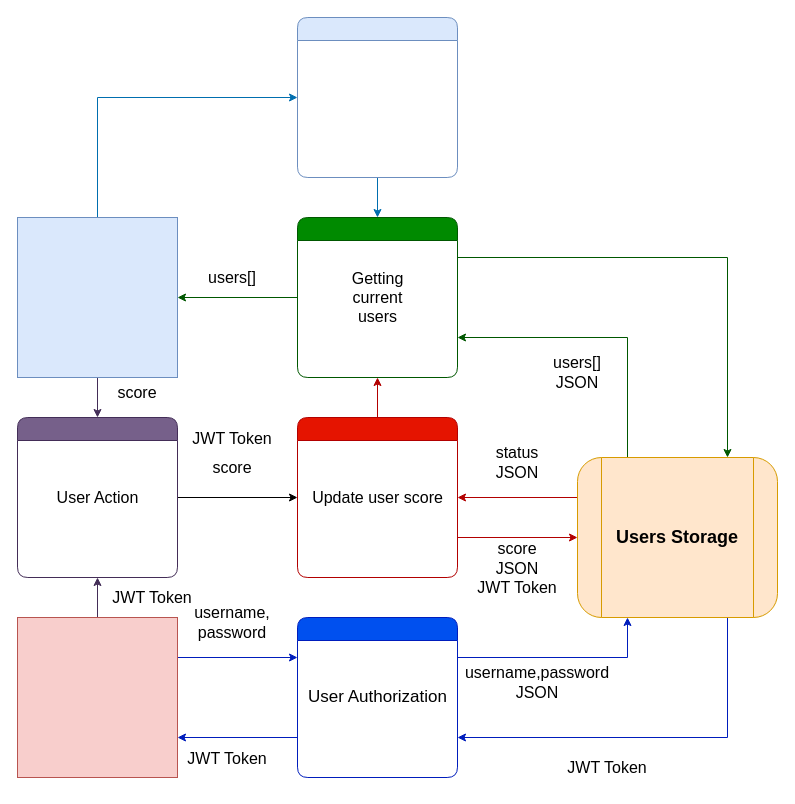
The diagram is 795 pixels wide and 804 high, and some of its shapes have lost their labels. Each missing label, with the centre of its shape:
Initializing scoreboard: the point at 377,97
User: the point at 97,697
Users Scoreboard: the point at 97,297
